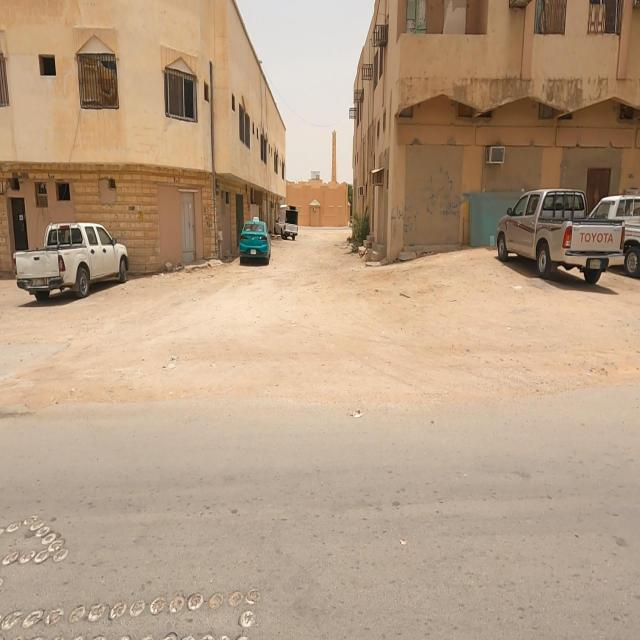Graffiti: (426, 171, 460, 219), (392, 202, 420, 233)
